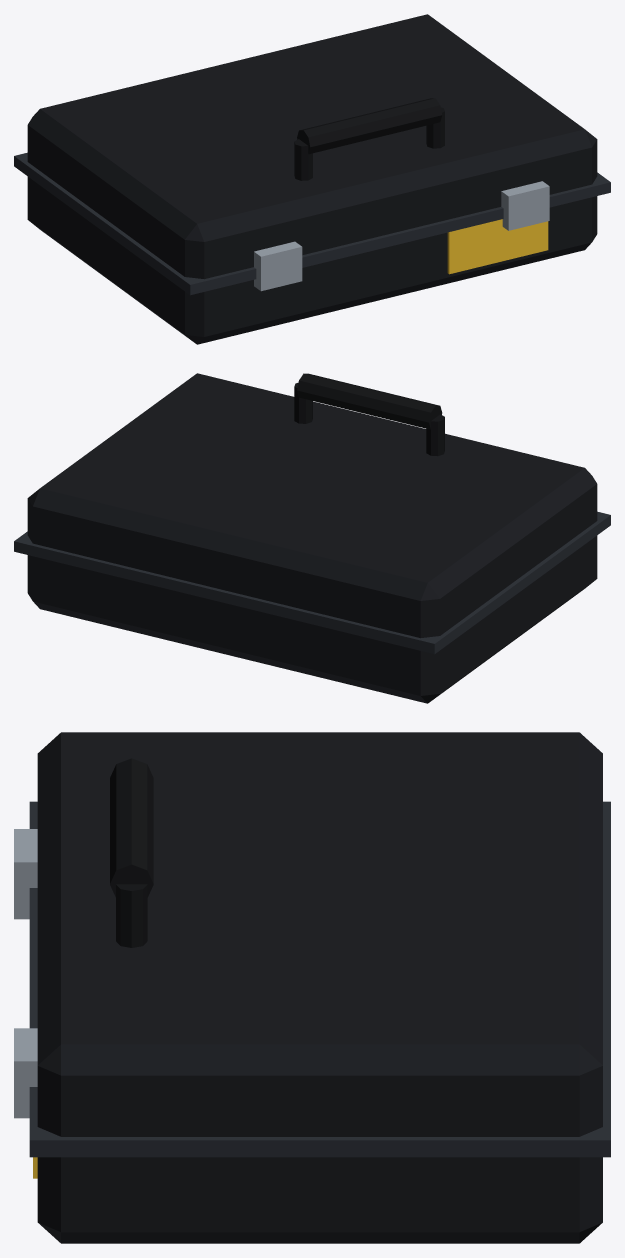
Rendered from 51_Toolkit_Case.fbx.
3 renders of one model, top to bottom at view 1: azimuth 30°, elevation 25°; view 2: azimuth 150°, elevation 25°; view 3: azimuth 270°, elevation 25°, orthographic. The views are drawn at different scales.
Parts seen in each view (by area): view 1: 51_Toolkit_Case; view 2: 51_Toolkit_Case; view 3: 51_Toolkit_Case.
Boxes of the visible parts, box(x1,y1,x2,y2) form: 51_Toolkit_Case: box(14, 14, 610, 344); 51_Toolkit_Case: box(14, 373, 610, 703); 51_Toolkit_Case: box(14, 732, 610, 1243).
Bounding box in the file's own units: 0.51 × 0.194 × 0.38.
